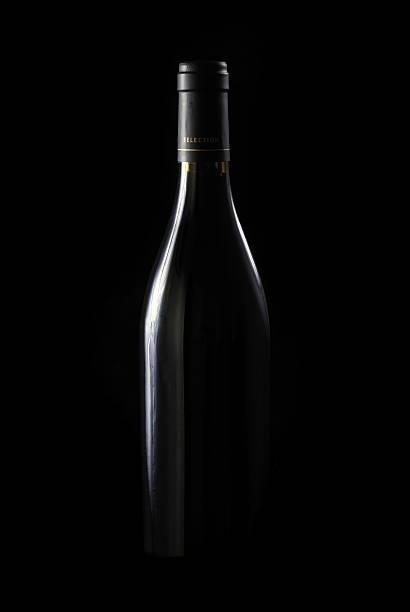bottle-glass: (134, 54, 276, 564)
